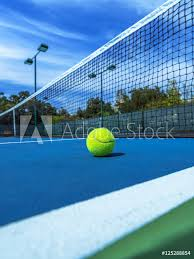tennis_ball: (86, 127, 115, 157)
